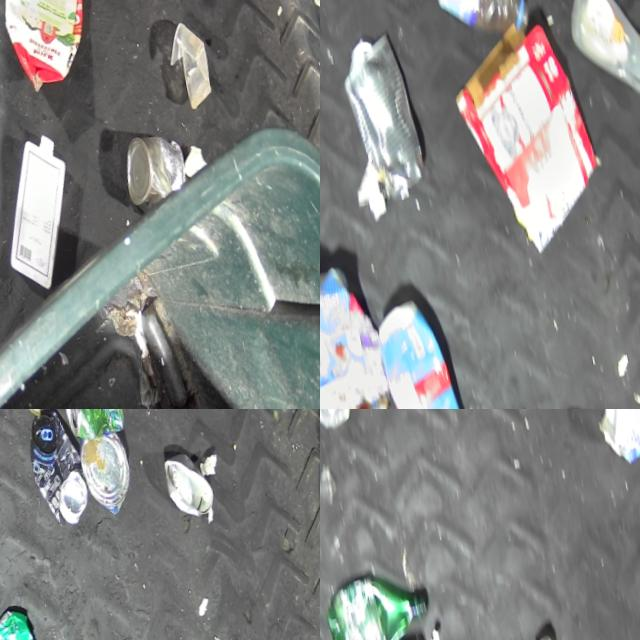can: (332, 18, 431, 211), (20, 412, 93, 542), (117, 133, 191, 224), (75, 437, 136, 530), (159, 458, 216, 539), (58, 409, 124, 454), (4, 409, 49, 428)
milk_jug: (559, 0, 640, 127)
non_white_jug: (0, 0, 107, 106)
plastic_bottle: (424, 0, 532, 54), (285, 0, 320, 28)
